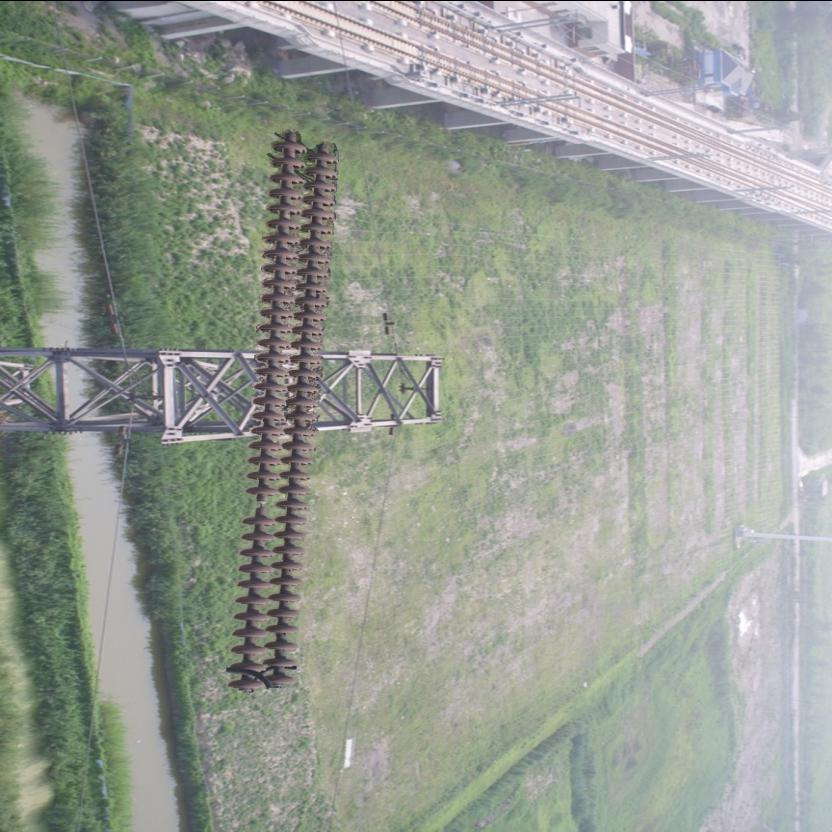defect: (239, 482, 280, 531)
